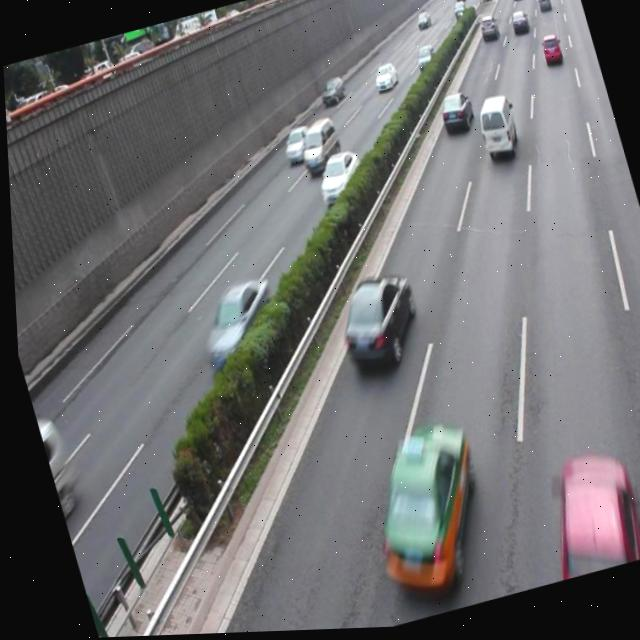car: (344, 420, 494, 602), (529, 451, 640, 584), (324, 271, 425, 378), (183, 274, 284, 373), (309, 150, 365, 207), (433, 91, 476, 141), (276, 125, 316, 167)
truck: (31, 413, 82, 530), (469, 95, 519, 163), (291, 115, 343, 178)
